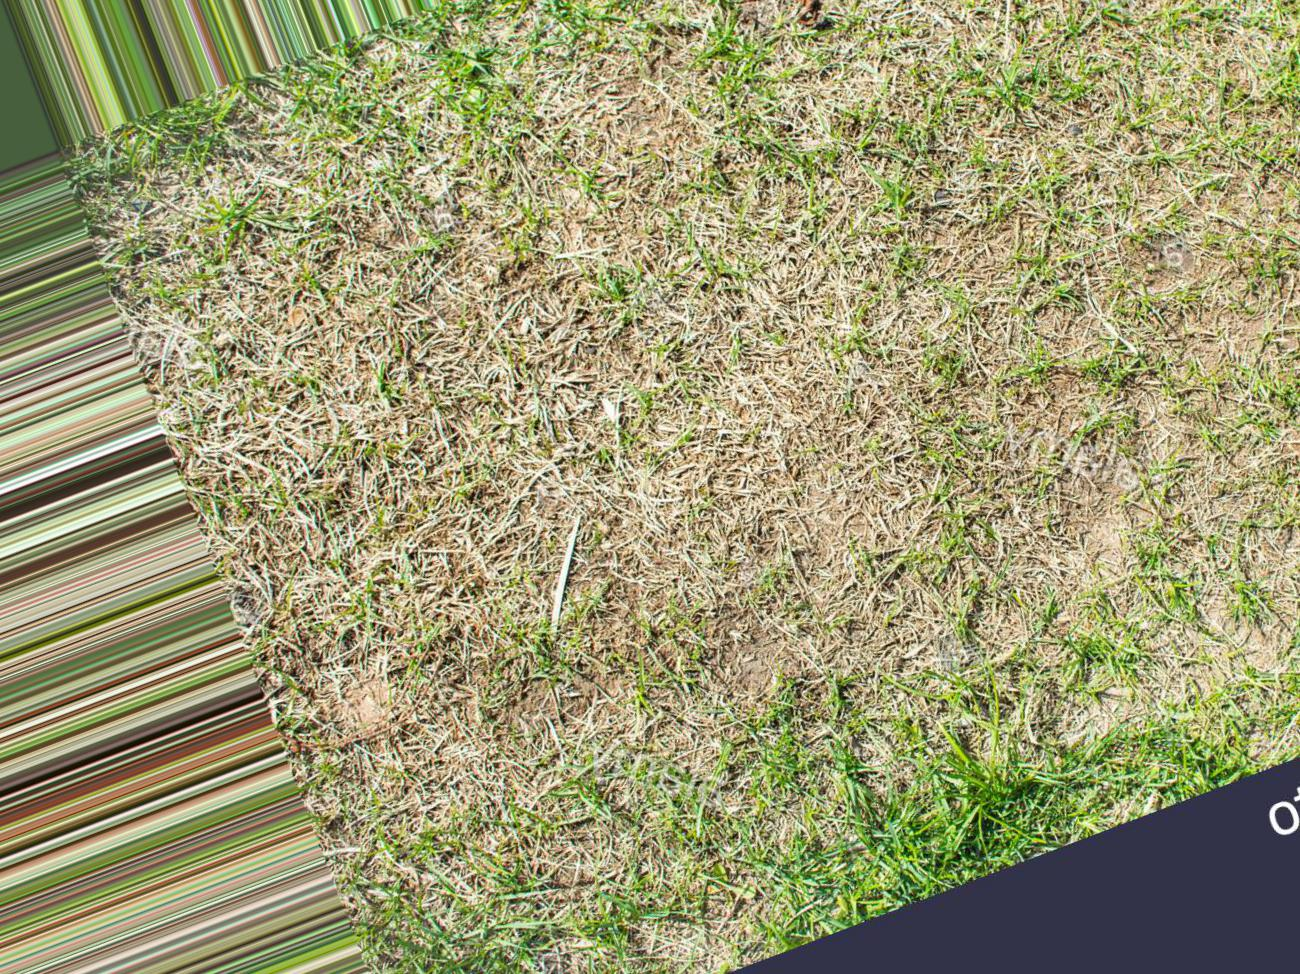patch: (113, 135, 1300, 425), (320, 423, 842, 818), (876, 433, 1277, 596), (603, 11, 949, 113)
